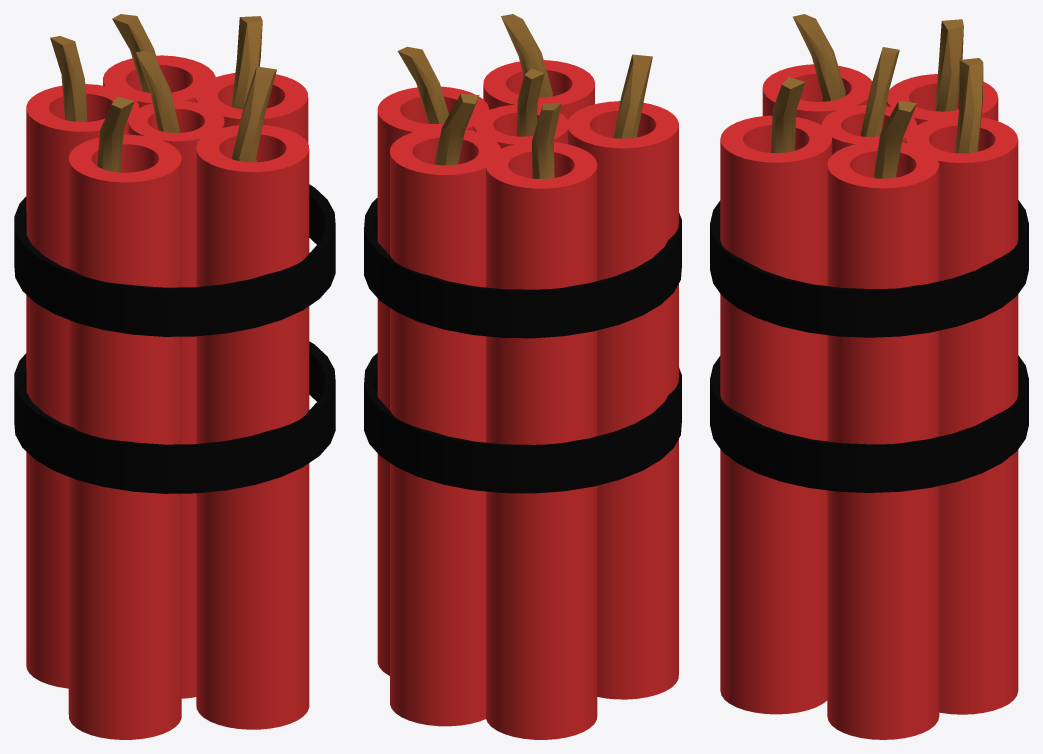
The model's file is TNT.fbx.
3 renders of one model, left to right at view 1: azimuth 30°, elevation 25°; view 2: azimuth 150°, elevation 25°; view 3: azimuth 270°, elevation 25°, orthographic.
Visible parts, largest first — view 1: TNT; view 2: TNT; view 3: TNT.
Boxes of the visible parts, x1,y1,x2,y2 form: TNT: [14, 14, 335, 739]; TNT: [364, 14, 681, 739]; TNT: [710, 14, 1028, 739].
Bounding box in the file's own units: 0.3951 × 0.8467 × 0.3951.
